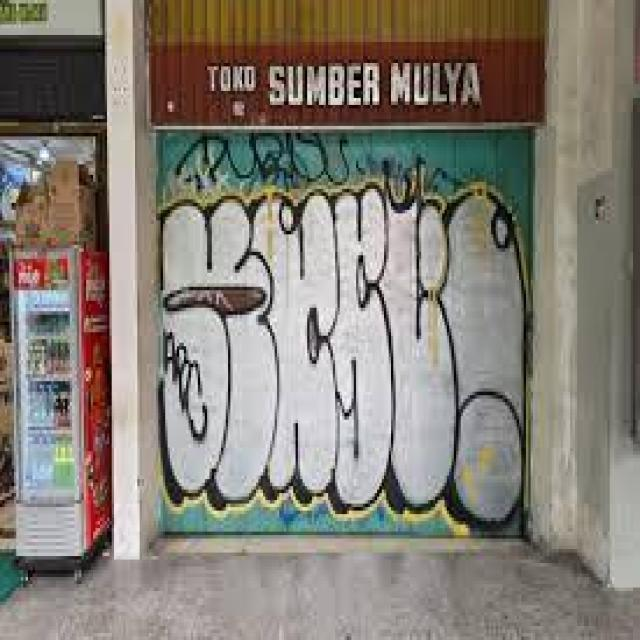nonspitting: (156, 182, 528, 534), (175, 126, 352, 186)
